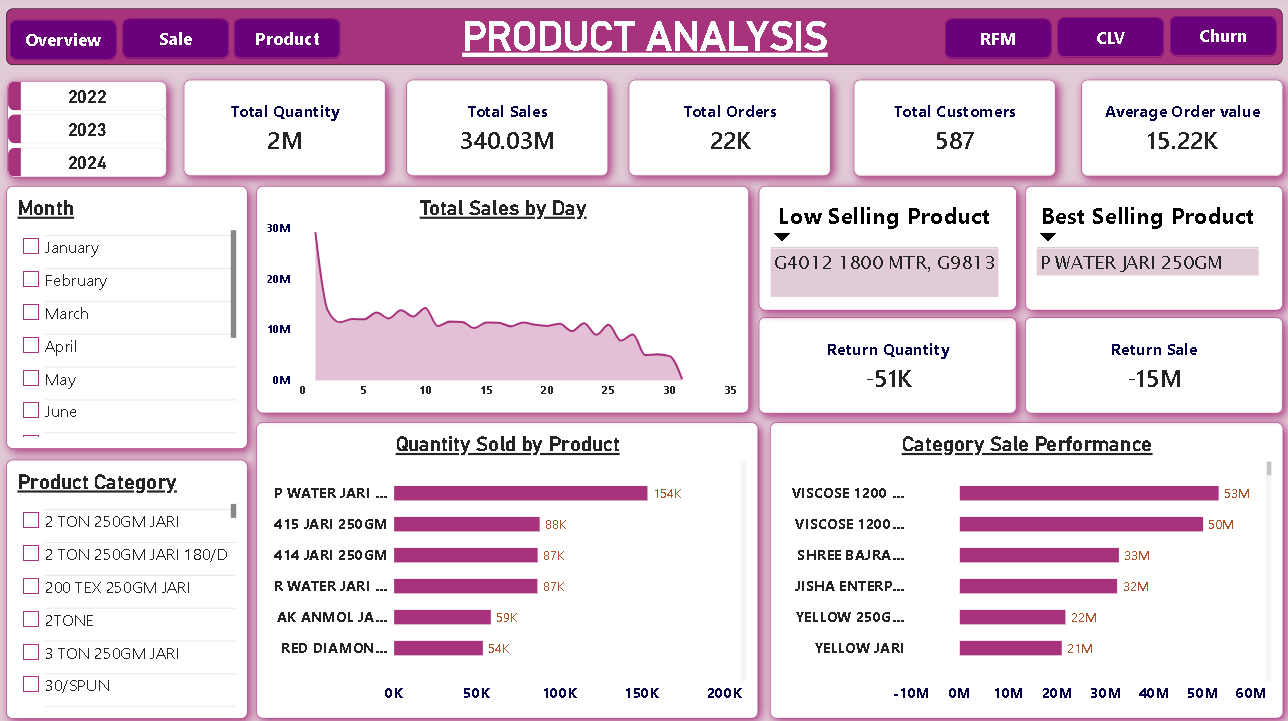

The page's visual inventory and layout, read from the dashboard file:
{"tool":"powerbi","page":{"name":"Product","canvas":[1920,1080],"ordinal":3},"visuals":[{"type":"textbox","title":"PRODUCT ANALYSIS ","box":[9.2,18.3,1896,84],"z":0},{"type":"cardVisual","fields":{"Data":["Master_Data.Total Quantity"]},"box":[273.3,124.7,300,143],"z":1000},{"type":"advancedSlicerVisual","fields":{"Values":["Master_Data.Bill Date.Variation.Date Hierarchy.Year"]},"box":[10.9,125.5,237,143],"z":2000},{"type":"cardVisual","fields":{"Data":["Master_Data.Total Sales"]},"box":[603.5,124.7,300,143],"z":3000},{"type":"cardVisual","fields":{"Data":["Master_Data.Total Orders"]},"box":[933.6,124.7,300,143],"z":4000},{"type":"cardVisual","title":"total","fields":{"Data":["Master_Data.Total Customers"]},"box":[1267.5,124.7,300,143.6],"z":5000},{"type":"cardVisual","fields":{"Data":["Master_Data.Average Order value"]},"box":[1605.7,124.5,300,143.6],"z":6000},{"type":"slicer","title":"Month","fields":{"Values":["Master_Data.Bill Date.Variation.Date Hierarchy.Month"]},"box":[9.4,283,358,390],"z":7000},{"type":"slicer","title":"Product Category","fields":{"Values":["Master_Data.Product Category"]},"box":[9.4,688.7,358.5,384.9],"z":8000},{"type":"textbox","title":"jddnfkjbkdfb","box":[367.9,1026.4,13.2,52.8],"z":9000},{"type":"tableEx","title":"Best Selling Product","fields":{"Values":["Master_Data.Best Selling Product"]},"box":[1522.6,283,383,184.9],"z":10000},{"type":"barChart","title":"Quantity Sold by Product","fields":{"Category":["Master_Data.Product Name"],"Y":["Master_Data.Total Quantity"]},"box":[381.1,634,745.3,439.6],"z":11000},{"type":"barChart","title":"Category Sale Performance","fields":{"Category":["Master_Data.Product Category"],"Y":["Master_Data.Total Sales"]},"box":[1143.4,634,762.3,439.6],"z":12000},{"type":"cardVisual","fields":{"Data":["Master_Data.Return Quantity"]},"box":[1126.4,477.4,383,143.4],"z":13000},{"type":"tableEx","fields":{"Values":["Master_Data.Lowest Performing Product"]},"box":[1126.4,283,383,184.9],"z":14000},{"type":"cardVisual","fields":{"Data":["Master_Data.Return Sale"]},"box":[1522.6,477.4,383,143.4],"z":15000},{"type":"lineChart","fields":{"Category":["Master_Data.Bill Date.Variation.Date Hierarchy.Day"],"Y":["Master_Data.Total Sales"]},"box":[381.1,283,732.1,337.7],"z":16000},{"type":"actionButton","box":[14.4,35,158.5,59.7],"z":16001},{"type":"actionButton","box":[181.1,32.9,158.5,59.7],"z":16002},{"type":"actionButton","box":[347.9,32.9,158.5,59.7],"z":16003},{"type":"actionButton","box":[1737.2,28.8,158.5,59.7],"z":16004},{"type":"actionButton","box":[1570.5,30.9,158.5,59.7],"z":16005},{"type":"actionButton","box":[1403.8,32.9,158.5,59.7],"z":16006}]}

Visuals, with their boxes in screenshot pixels (x1, y1, x2, y2), scaled from the page's 1920x1080 canvas onto the 1288x721 screenshot:
"PRODUCT ANALYSIS " textbox: crop(6, 12, 1278, 68)
cardVisual - Master_Data.Total Quantity: crop(183, 83, 385, 179)
advancedSlicerVisual - Master_Data.Bill Date.Variation.Date Hierarchy.Year: crop(7, 84, 166, 179)
cardVisual - Master_Data.Total Sales: crop(405, 83, 606, 179)
cardVisual - Master_Data.Total Orders: crop(626, 83, 828, 179)
"total" cardVisual: crop(850, 83, 1052, 179)
cardVisual - Master_Data.Average Order value: crop(1077, 83, 1278, 179)
"Month" slicer: crop(6, 189, 246, 449)
"Product Category" slicer: crop(6, 460, 247, 717)
"jddnfkjbkdfb" textbox: crop(247, 685, 256, 720)
"Best Selling Product" tableEx: crop(1021, 189, 1278, 312)
"Quantity Sold by Product" barChart: crop(256, 423, 756, 717)
"Category Sale Performance" barChart: crop(767, 423, 1278, 717)
cardVisual - Master_Data.Return Quantity: crop(756, 319, 1013, 414)
tableEx - Master_Data.Lowest Performing Product: crop(756, 189, 1013, 312)
cardVisual - Master_Data.Return Sale: crop(1021, 319, 1278, 414)
lineChart - Master_Data.Bill Date.Variation.Date Hierarchy.Day x Master_Data.Total Sales: crop(256, 189, 747, 414)
actionButton: crop(10, 23, 116, 63)
actionButton: crop(121, 22, 228, 62)
actionButton: crop(233, 22, 340, 62)
actionButton: crop(1165, 19, 1272, 59)
actionButton: crop(1054, 21, 1160, 60)
actionButton: crop(942, 22, 1048, 62)
